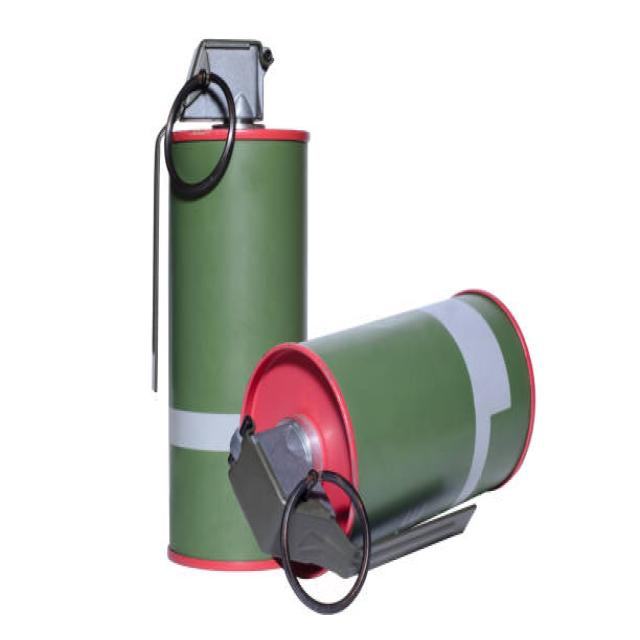grenade: (224, 279, 539, 621), (143, 34, 319, 576)
